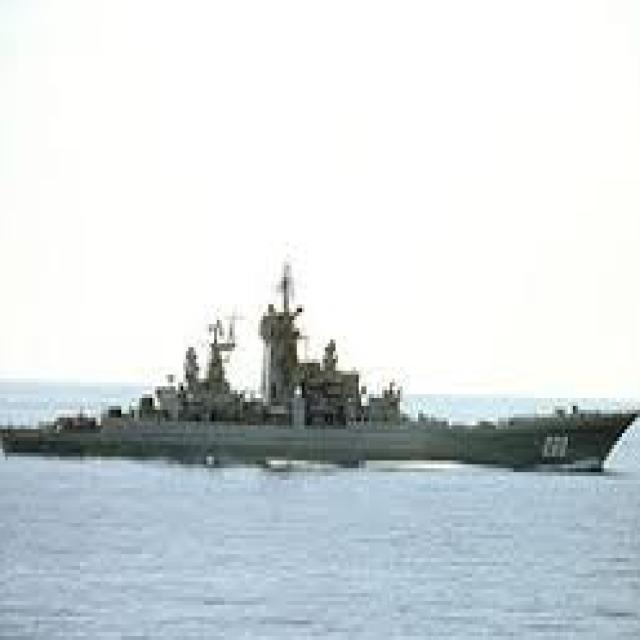navalvessels: (0, 207, 640, 492)
